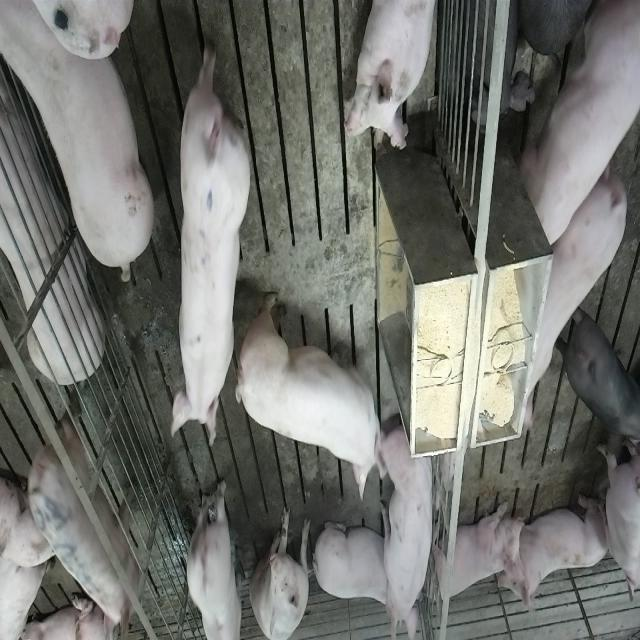Feeding: (233, 288, 381, 498)
Lateral_lying: (0, 70, 104, 383)
Sitting: (379, 422, 439, 638), (250, 503, 312, 639)
Standing: (175, 16, 258, 442), (516, 0, 638, 247), (26, 406, 146, 640), (532, 152, 632, 366), (564, 299, 640, 447), (186, 477, 243, 640)
Sternal_lying: (4, 0, 156, 279), (500, 490, 610, 620), (347, 0, 439, 154), (427, 499, 523, 609), (316, 516, 394, 608)
